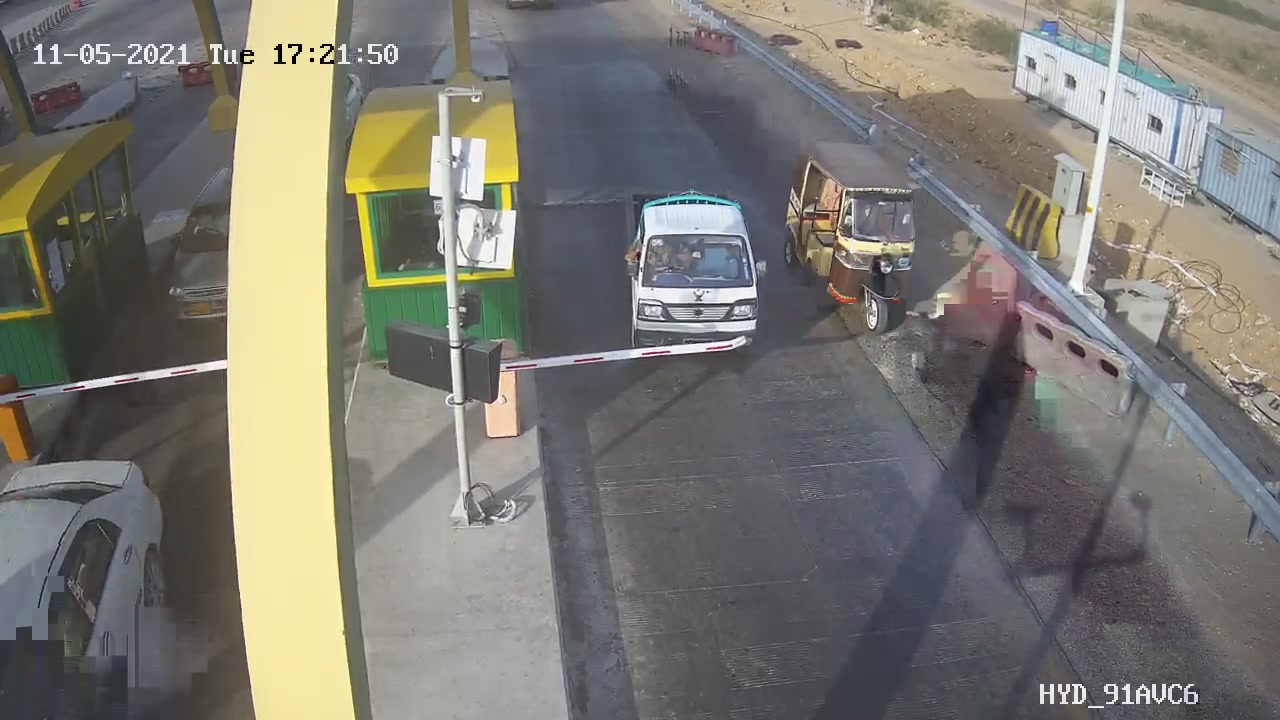F1: (604, 168, 782, 378)
